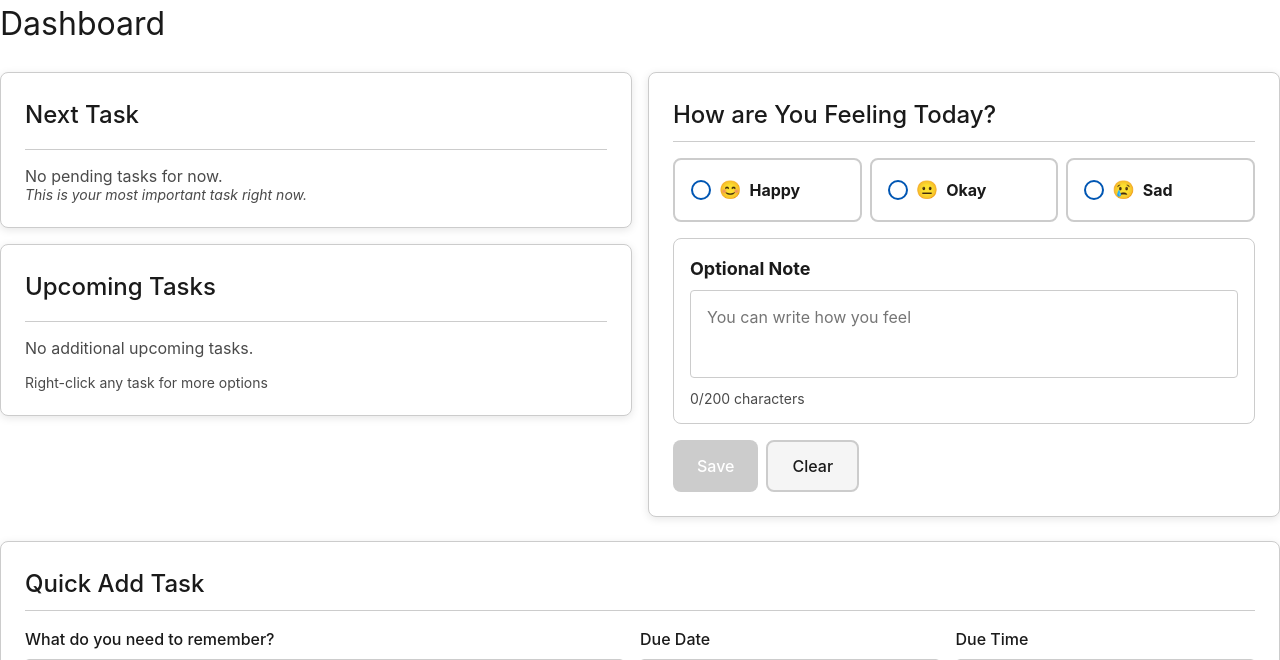
DashboardView › selects, saves, and clears mood check-in
Check: the button with aria-label "save selected mood" is disabled, box [673,440,758,492]
Click the button with aria-label "select mood happy".
click(767, 190)  # box [673,158,862,222]
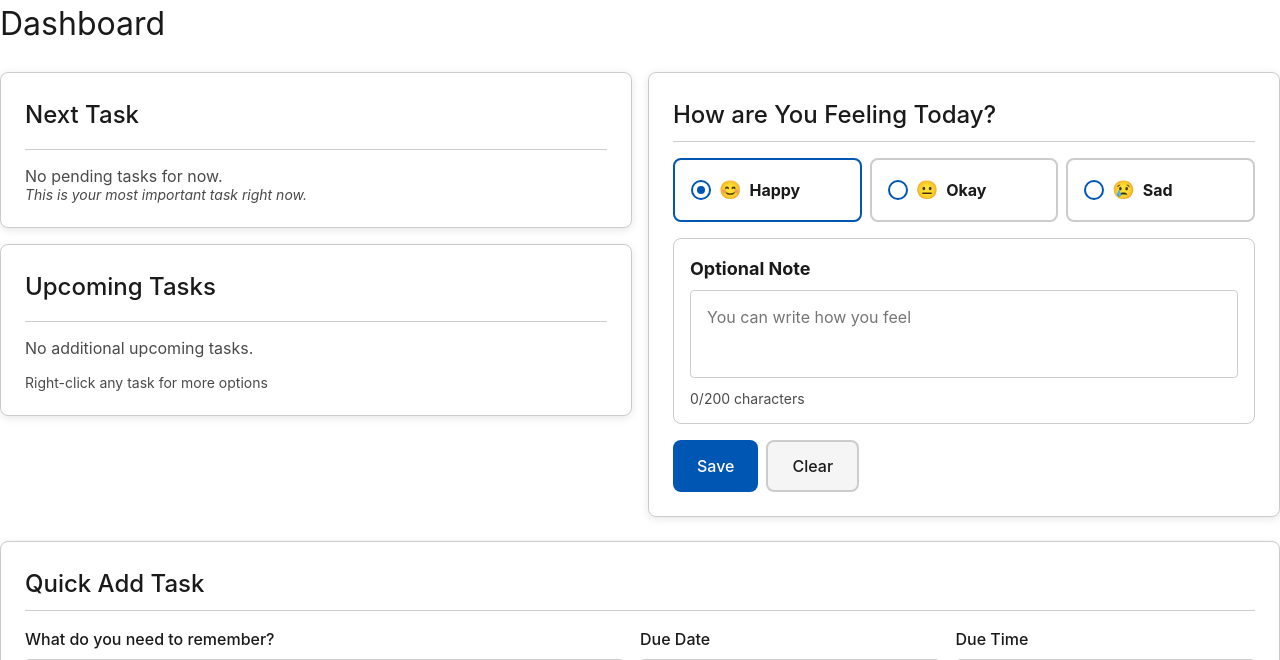
Check: the button with aria-label "save selected mood" is enabled, box [673,440,758,492]
Type "Feeling steady today" into the text box labelled "Optional Note".
click(964, 334); type("Feeling steady today")  # box [690,290,1238,378]
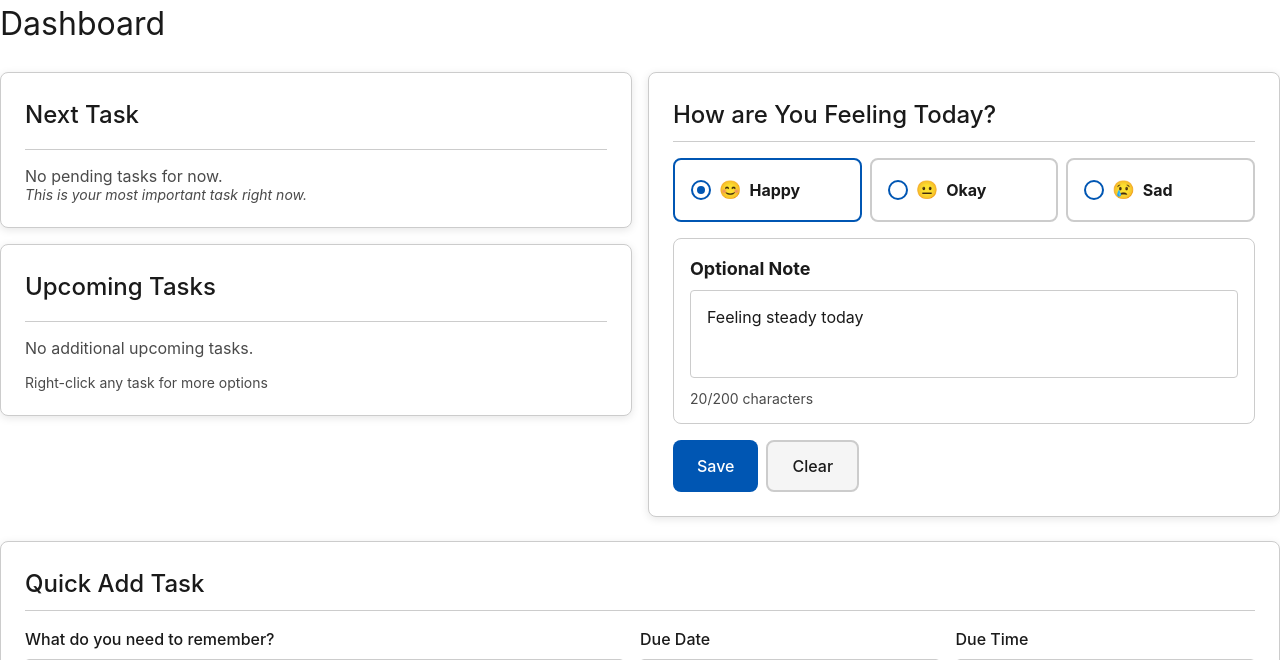
Check: the text "20/200 characters" is shown, box [690,390,813,407]
Click the button with aria-label "save selected mood".
click(716, 466)  # box [673,440,758,492]
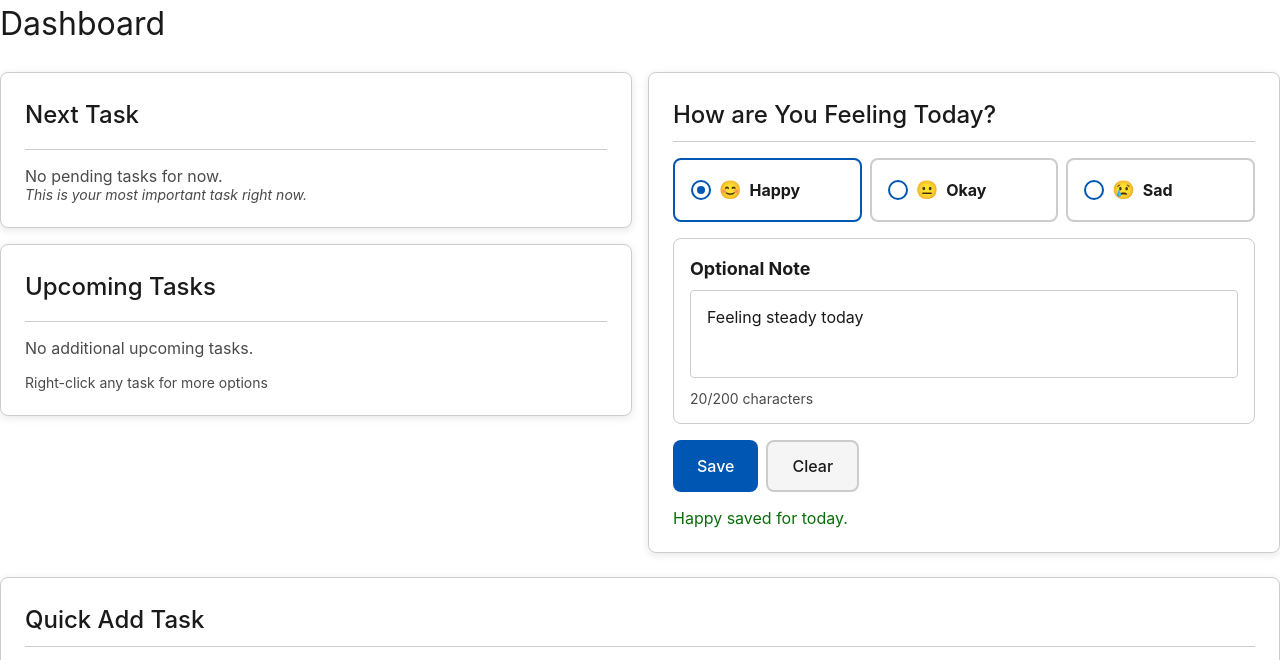
Check: the message reads "Happy saved for today.", box [673,508,848,528]
Click the button with aria-label "clear mood check-in".
click(813, 466)  # box [766,440,859,492]
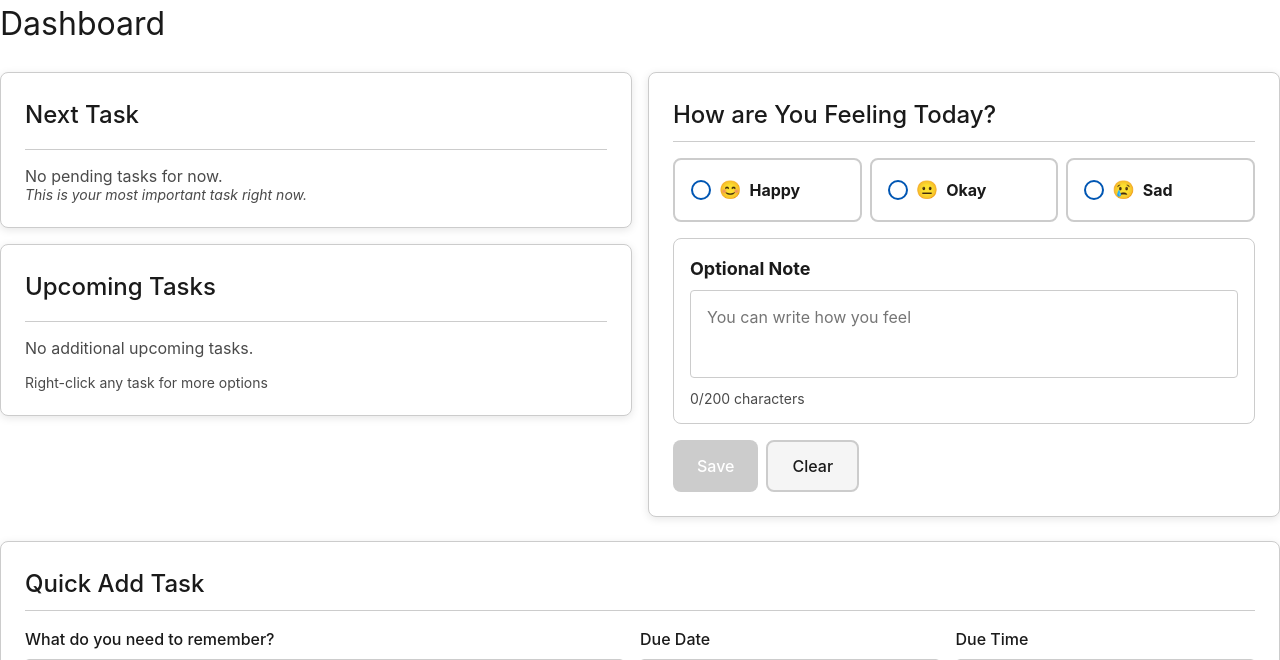
Check: the text box labelled "Optional Note" is empty, box [690,290,1238,378]
Check: the button with aria-label "save selected mood" is disabled, box [673,440,758,492]
Check: the message "Happy saved for today." is gone
